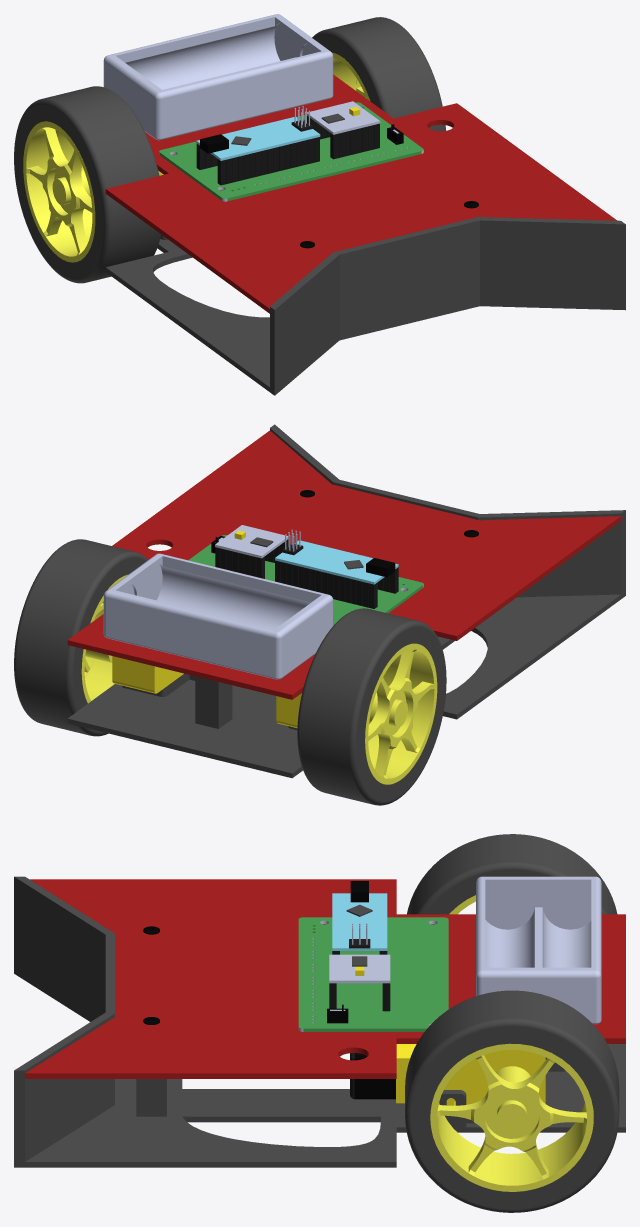
Rendered from FUTBOLISTA.fbx.
3 renders of one model, top to bottom at view 1: azimuth 30°, elevation 25°; view 2: azimuth 150°, elevation 25°; view 3: azimuth 270°, elevation 25°, orthographic. The views are drawn at different scales.
Visible parts, largest first — view 1: red medium gloss plastic, dark grey satin finish plastic, color-2, matte rubber, yellow low gloss plastic, matte rubber.2, green medium gloss plastic, black low gloss plastic, blue low gloss plastic, color, black low gloss plastic-2, yellow low gloss plastic.2; view 2: red medium gloss plastic, dark grey satin finish plastic, color-2, matte rubber, matte rubber.2, yellow low gloss plastic, black low gloss plastic, blue low gloss plastic, green medium gloss plastic, yellow low gloss plastic-2, yellow low gloss plastic.2, color (+2 smaller); view 3: red medium gloss plastic, dark grey satin finish plastic, matte rubber.2, color-2, yellow low gloss plastic.2, green medium gloss plastic, matte rubber, yellow low gloss plastic-2, blue low gloss plastic, color, chromium plate.
Boxes of the visible parts, <box> form: red medium gloss plastic: <box>105,74,616,313</box>; dark grey satin finish plastic: <box>105,217,625,395</box>; color-2: <box>103,14,333,140</box>; matte rubber: <box>14,86,160,283</box>; yellow low gloss plastic: <box>23,121,95,262</box>; matte rubber.2: <box>312,17,445,131</box>; green medium gloss plastic: <box>159,102,423,201</box>; black low gloss plastic: <box>196,137,319,185</box>; blue low gloss plastic: <box>196,117,320,160</box>; color: <box>159,101,423,201</box>; black low gloss plastic-2: <box>307,116,379,159</box>; yellow low gloss plastic.2: <box>332,52,370,101</box>; red medium gloss plastic: <box>67,430,620,699</box>; dark grey satin finish plastic: <box>67,424,625,778</box>; color-2: <box>103,553,333,679</box>; matte rubber: <box>297,608,446,805</box>; matte rubber.2: <box>14,539,148,736</box>; yellow low gloss plastic: <box>365,643,437,784</box>; black low gloss plastic: <box>275,560,398,608</box>; blue low gloss plastic: <box>275,540,398,584</box>; green medium gloss plastic: <box>188,535,423,625</box>; yellow low gloss plastic-2: <box>112,656,183,693</box>; yellow low gloss plastic.2: <box>81,574,127,703</box>; color: <box>215,525,423,590</box>; red medium gloss plastic: <box>25,879,625,1078</box>; dark grey satin finish plastic: <box>14,876,625,1167</box>; matte rubber.2: <box>405,990,619,1212</box>; color-2: <box>476,876,601,1024</box>; yellow low gloss plastic.2: <box>430,1043,593,1191</box>; green medium gloss plastic: <box>298,917,448,1031</box>; matte rubber: <box>407,834,617,914</box>; yellow low gloss plastic-2: <box>396,1044,545,1105</box>; blue low gloss plastic: <box>332,893,387,950</box>; color: <box>298,920,437,1031</box>; chromium plate: <box>354,1053,395,1099</box>.
Size of the model in its own units: 15 by 7.12 by 20.
